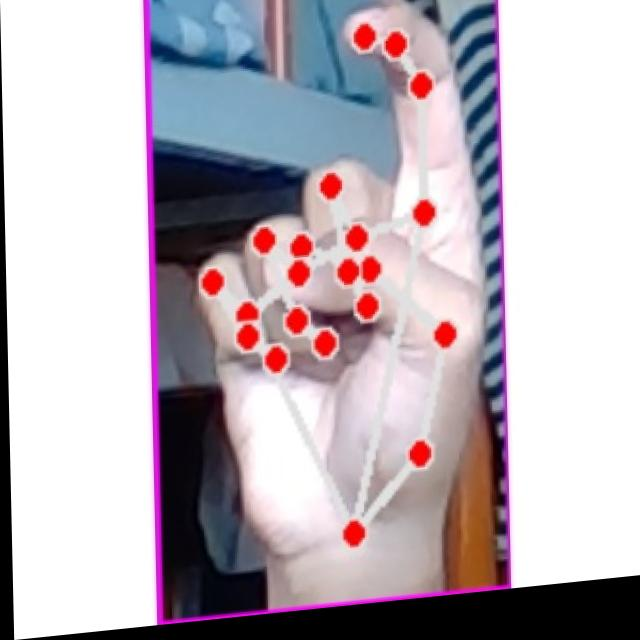X: (192, 0, 488, 590)
